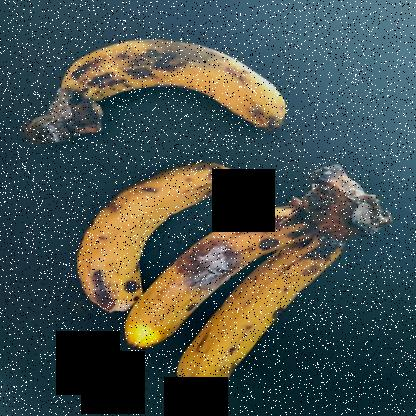ripe: (170, 240, 358, 399), (52, 26, 322, 131), (64, 152, 232, 320)
rotten: (114, 196, 308, 360)
